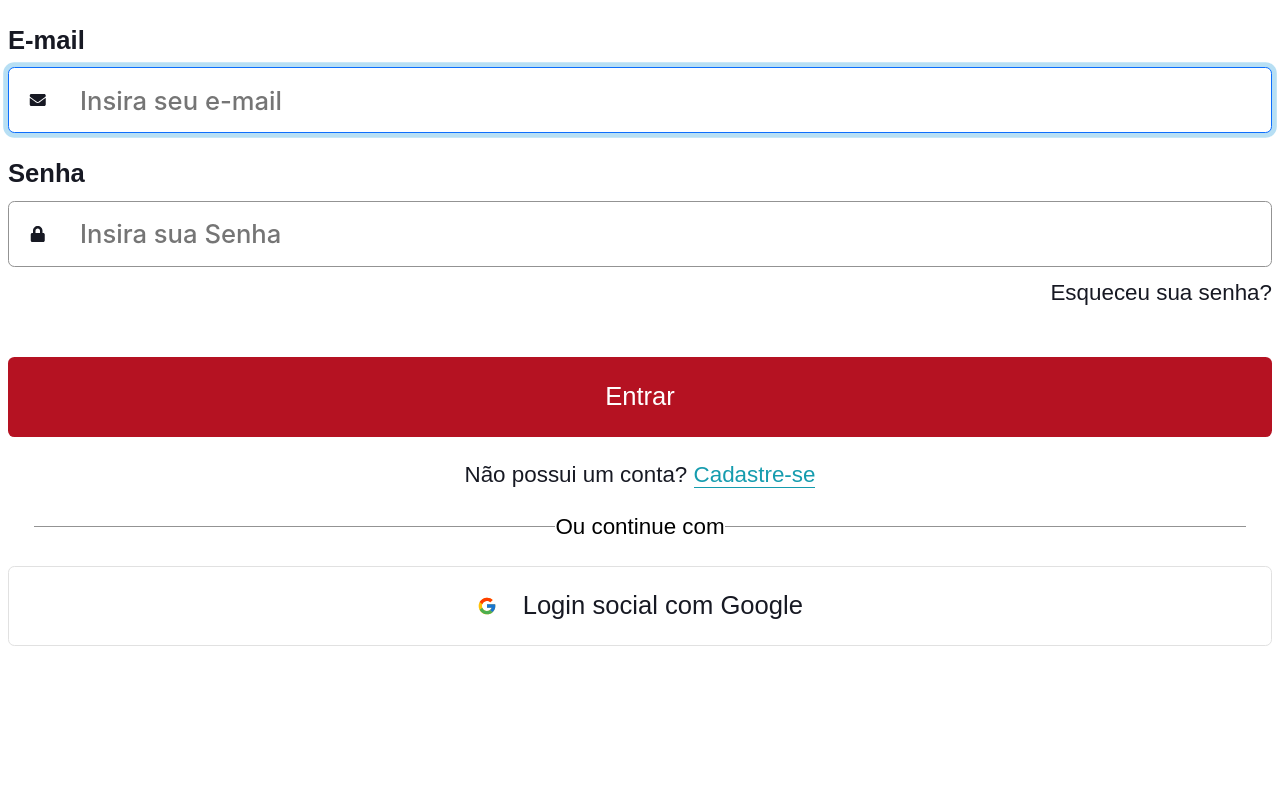
<SignInForm /> › should display matching error when email is invalid
In the field labelled "E-mail": {"x": 657, "y": 100} [54, 72, 1259, 129], type "test"
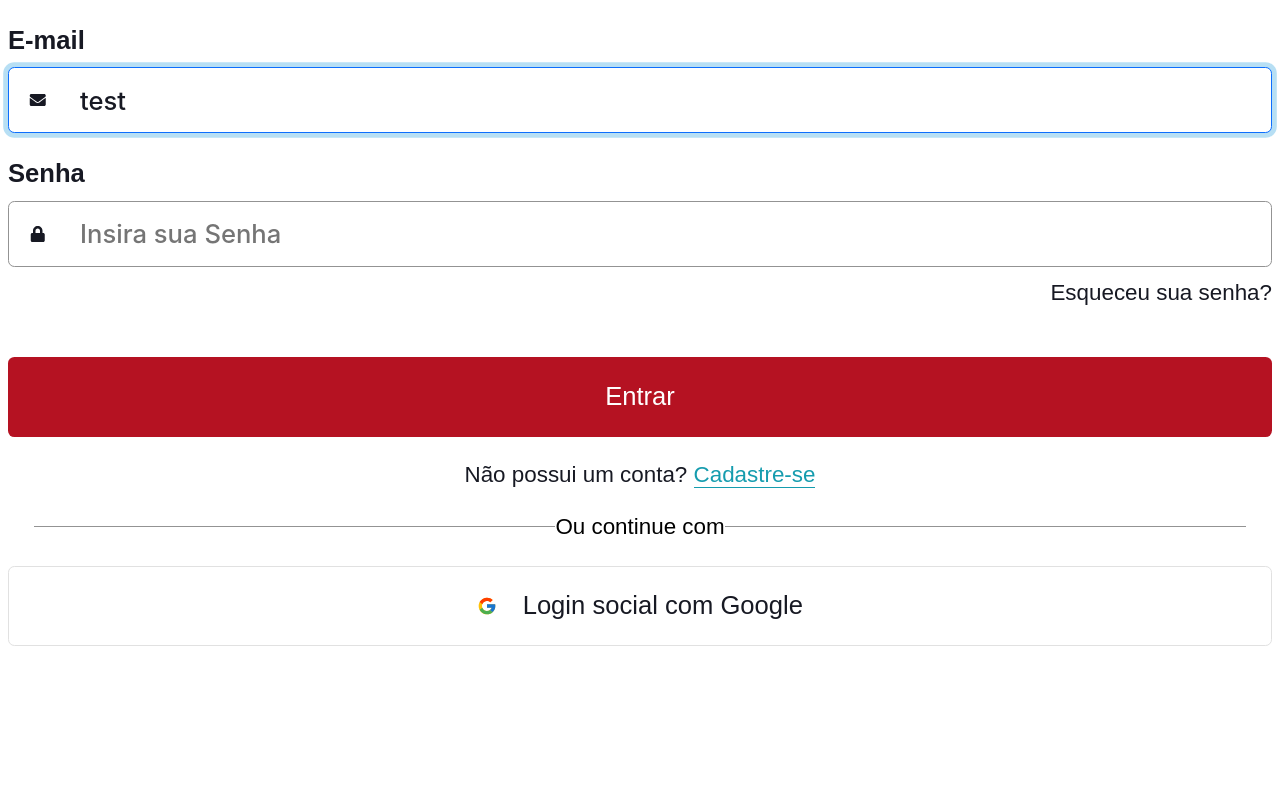
In the password field labelled "Senha": {"x": 657, "y": 234} [54, 206, 1259, 262], type "password"
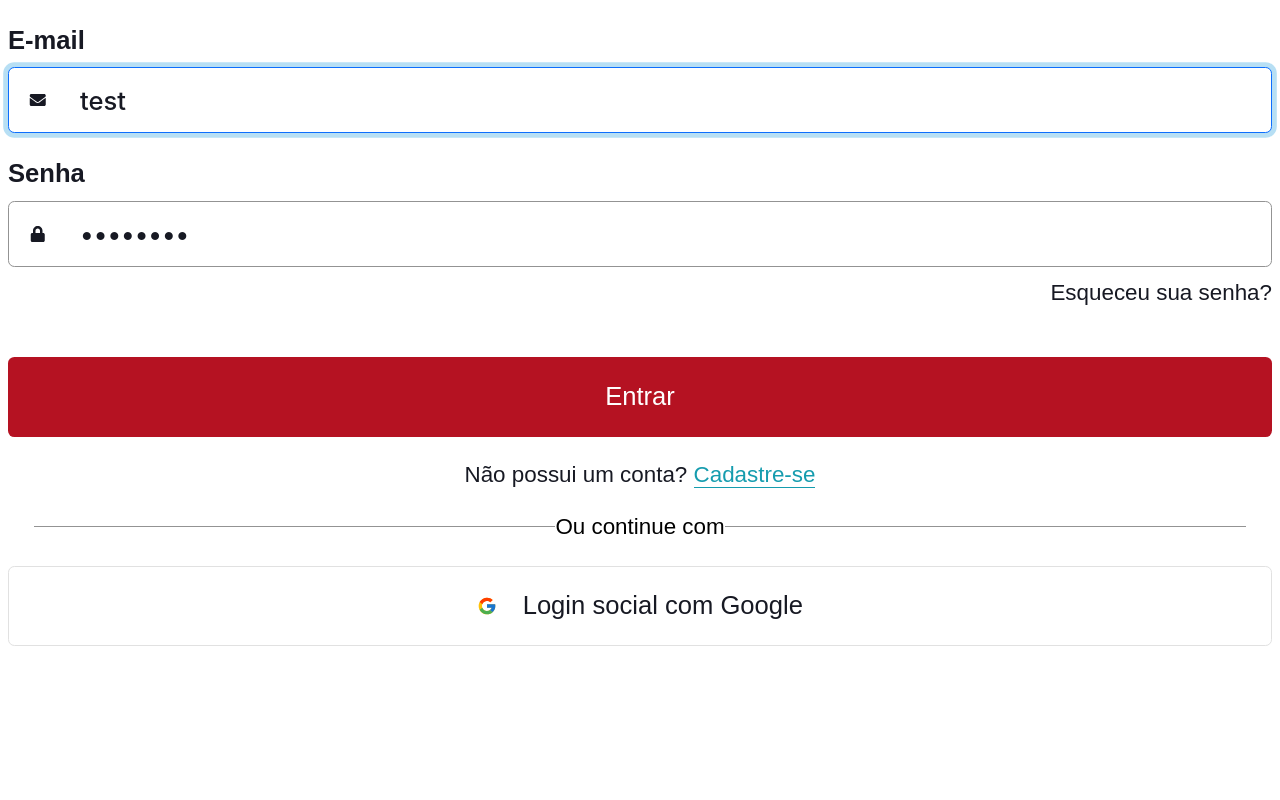
Submit the form from the button "Entrar", box [8, 357, 1272, 437]
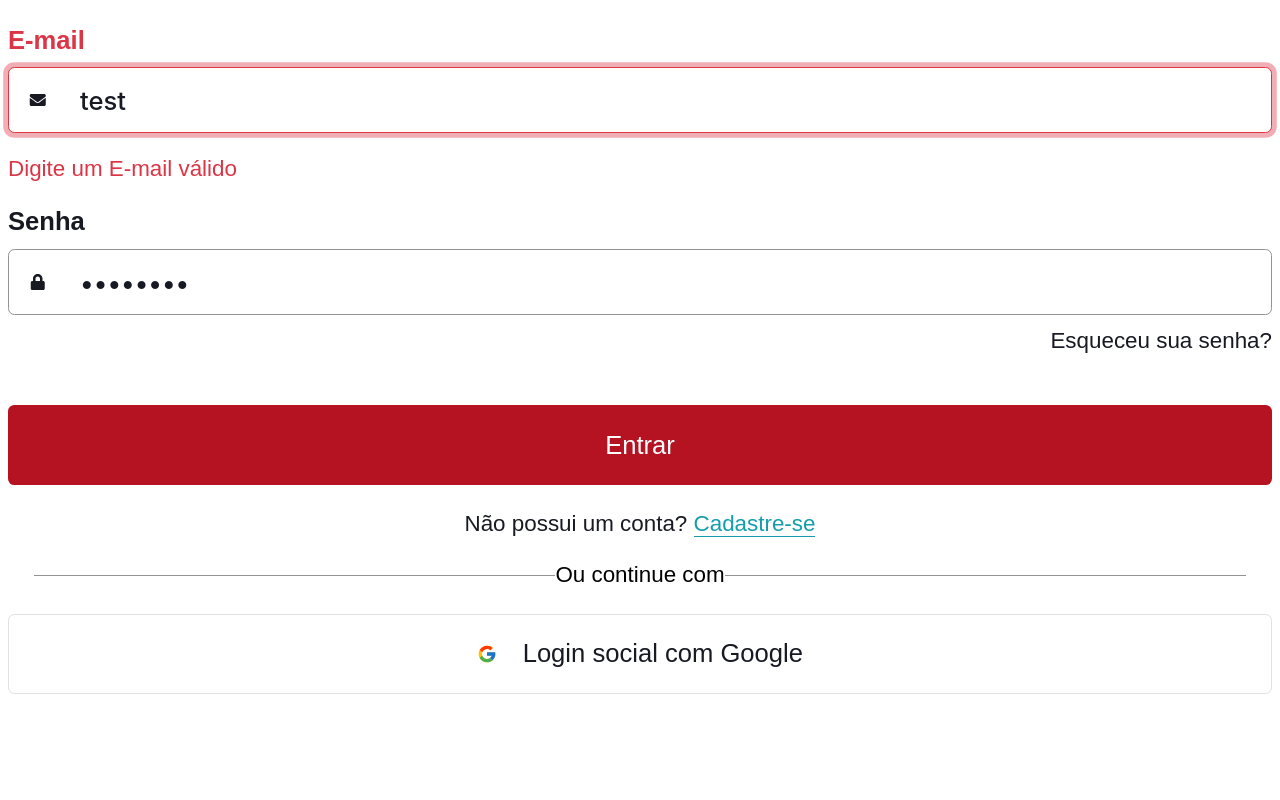
Expected: the number of messages is 1, [8, 156, 237, 181]
